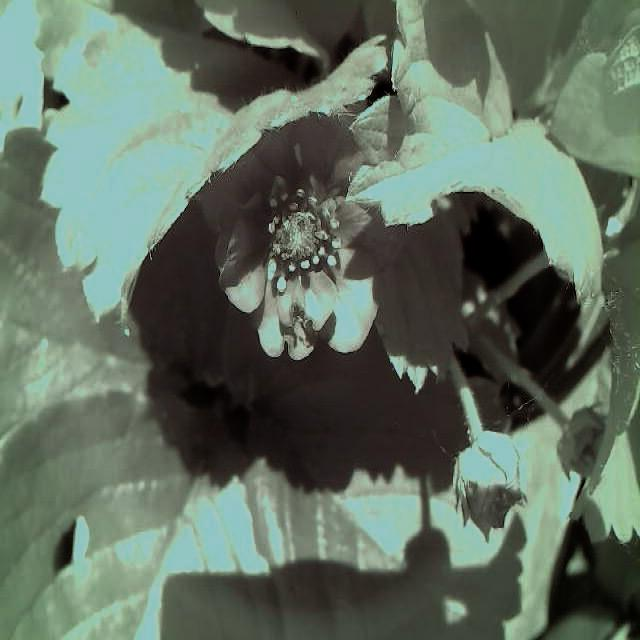flower: (186, 84, 398, 373)
